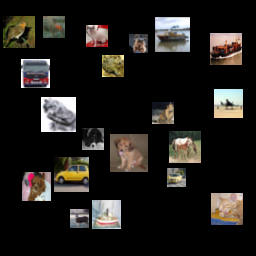airplane: (214, 89, 243, 118)
automobile: (54, 157, 89, 192), (167, 168, 186, 187)
bird: (3, 16, 35, 48)
cat: (41, 97, 76, 132), (211, 193, 243, 225), (152, 102, 174, 124)
deer: (43, 16, 65, 38), (70, 209, 89, 228)
dog: (110, 134, 148, 172), (22, 172, 51, 201), (86, 25, 108, 47), (82, 128, 104, 150), (129, 34, 148, 53)
frog: (102, 55, 124, 77)
ship: (155, 17, 190, 52), (210, 33, 242, 65), (92, 200, 121, 229)
